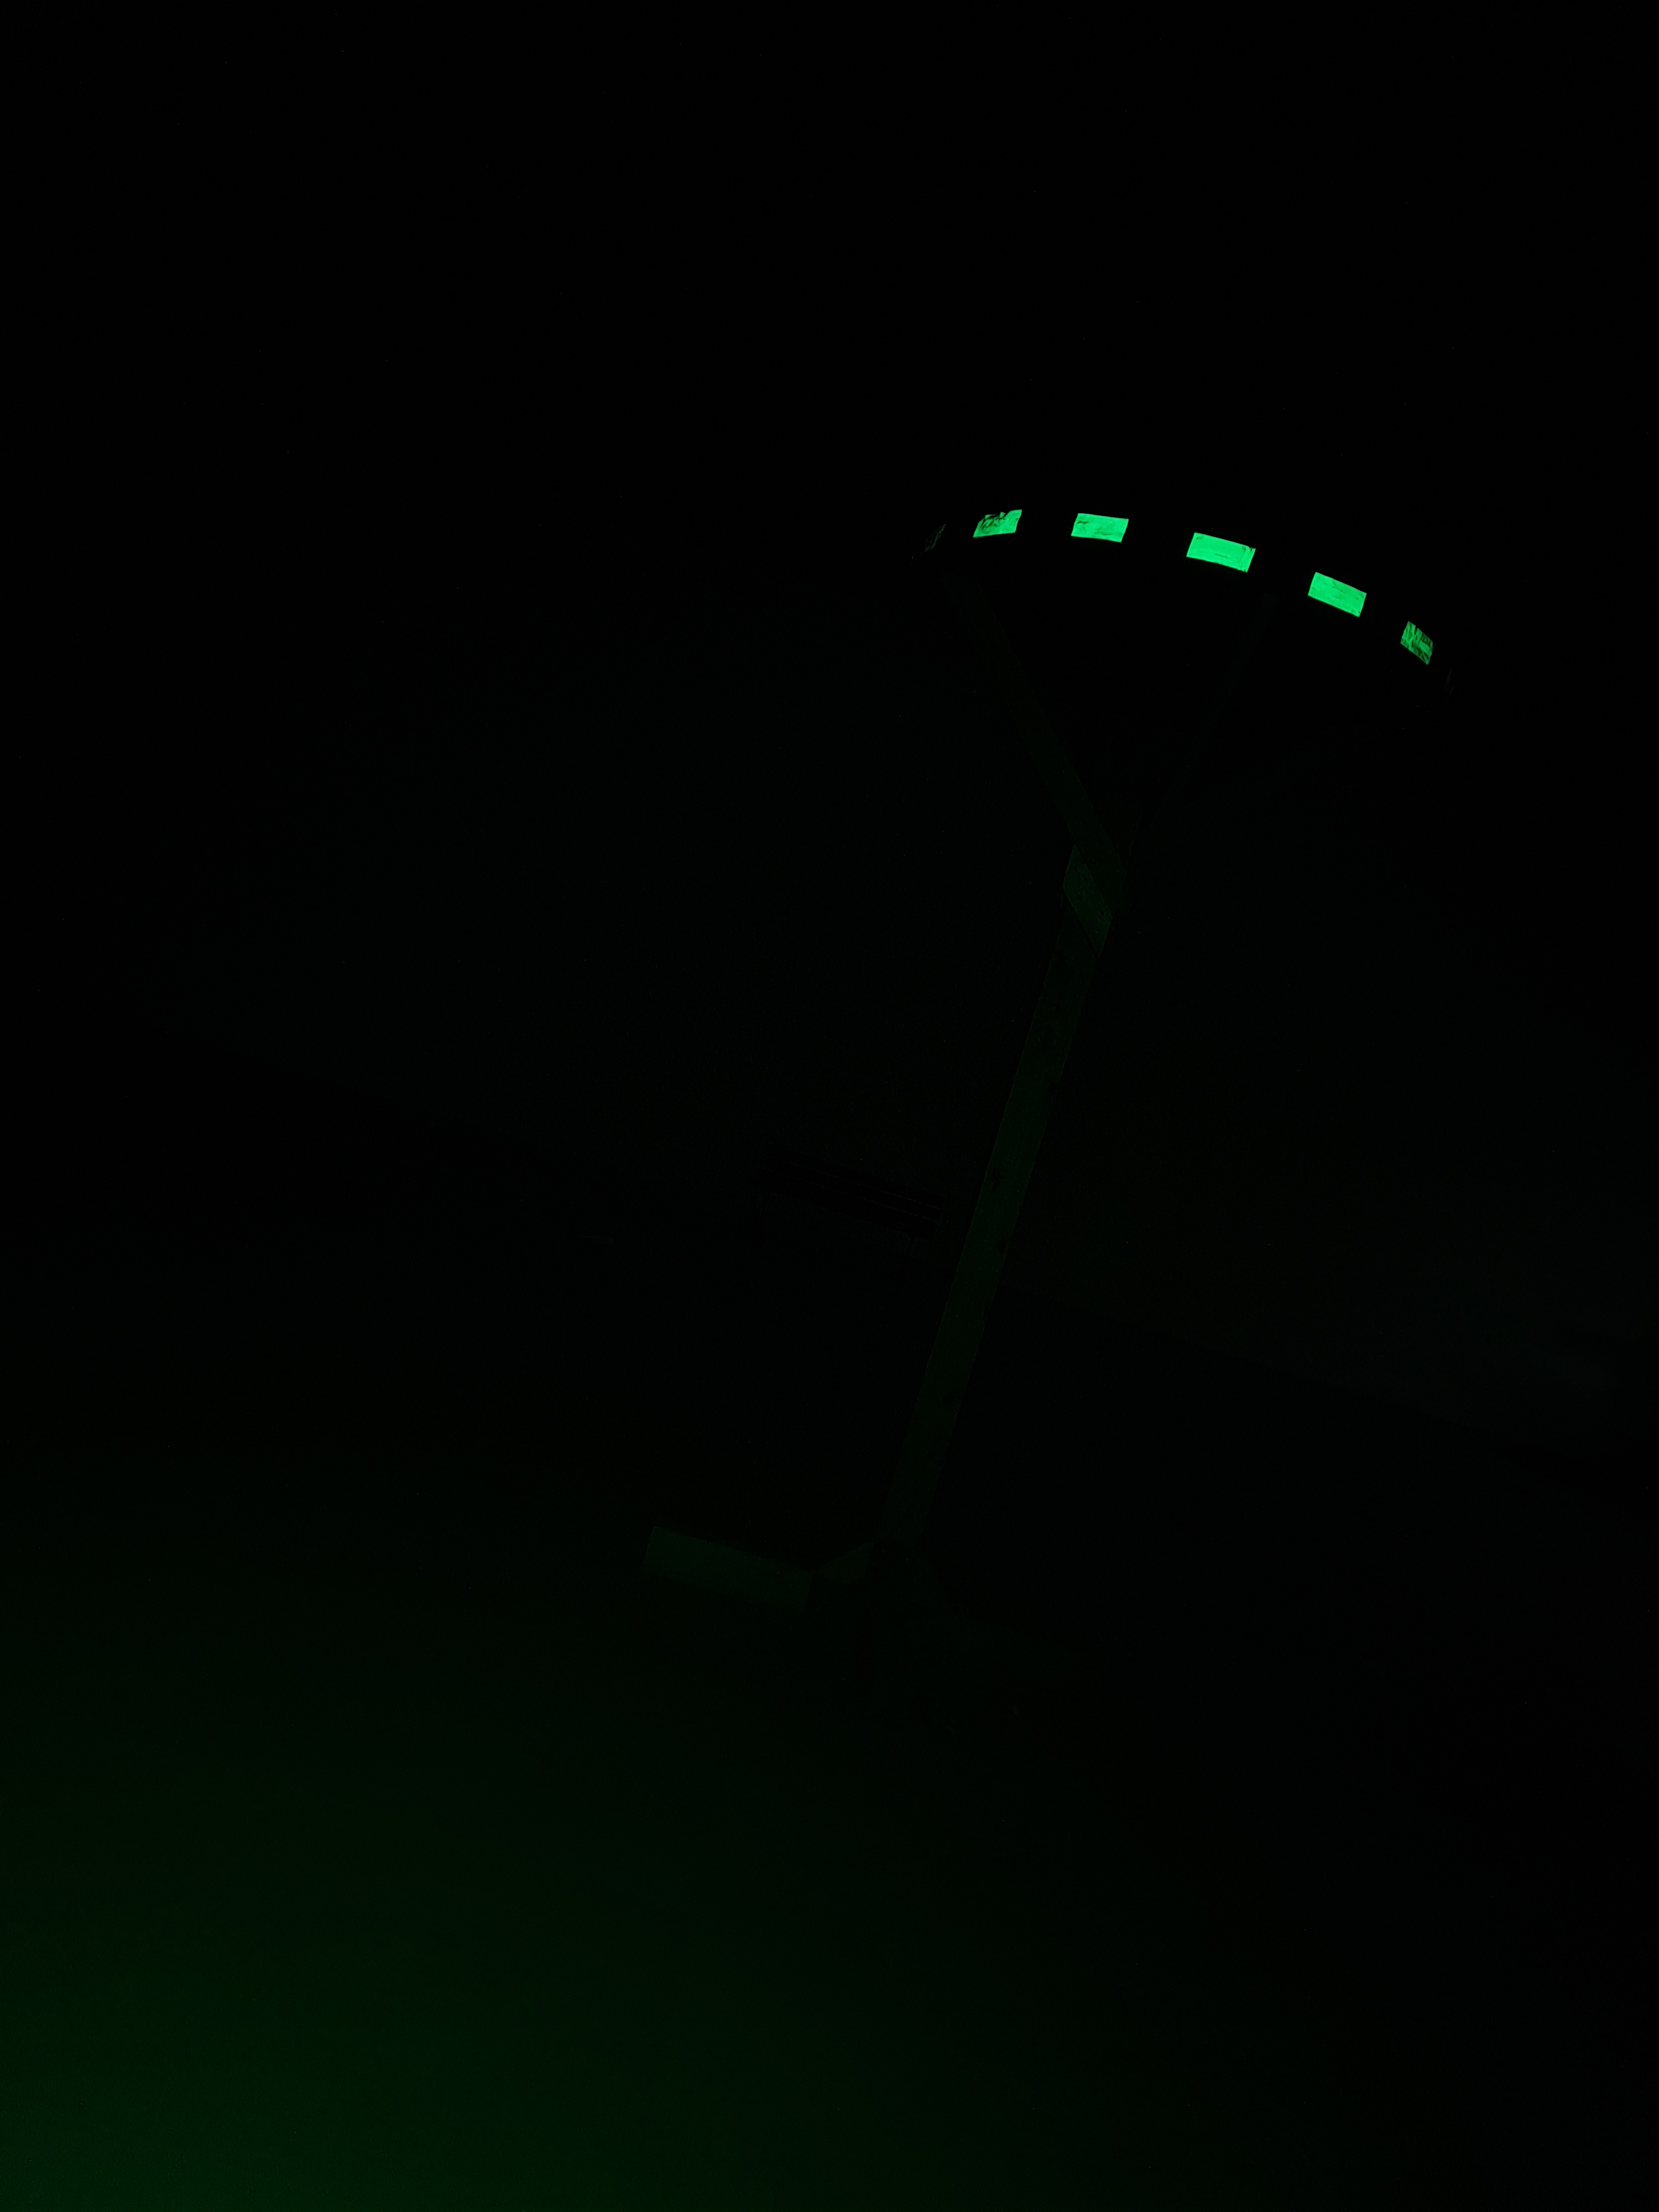hoop: (974, 509, 1436, 669)
